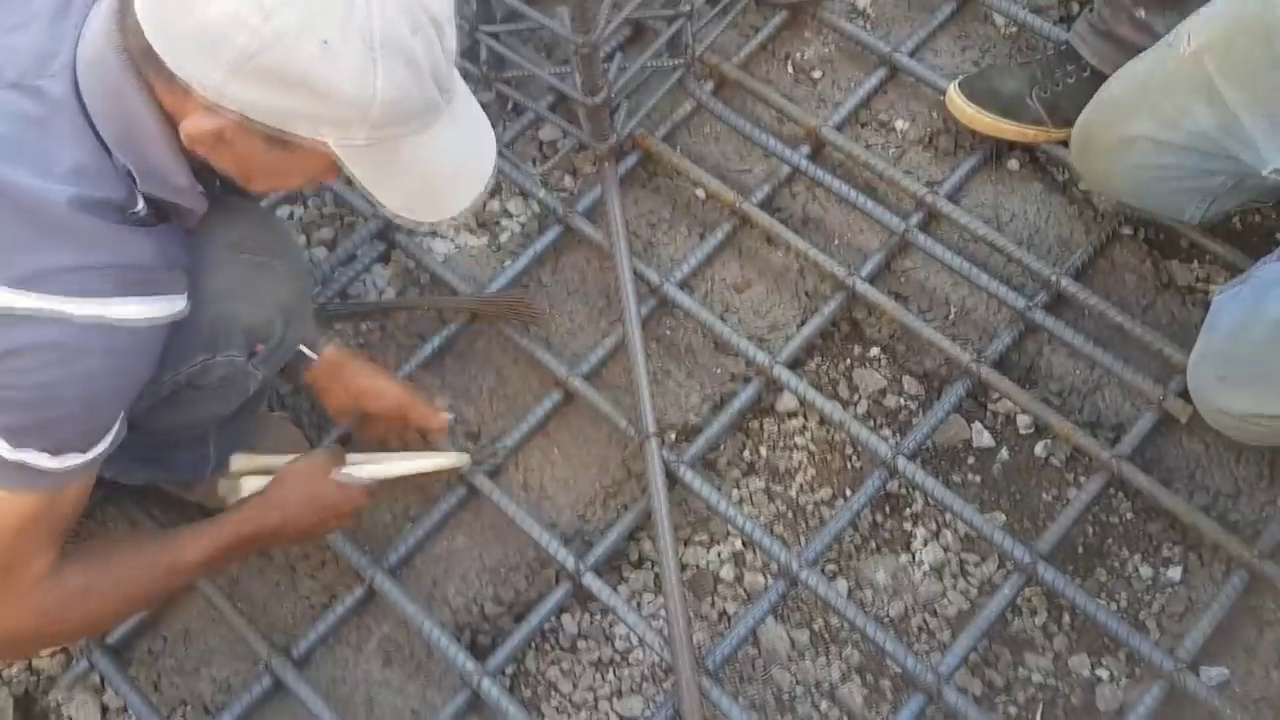helmet-off: (142, 0, 496, 218)
person: (0, 1, 492, 663), (939, 0, 1280, 452)
